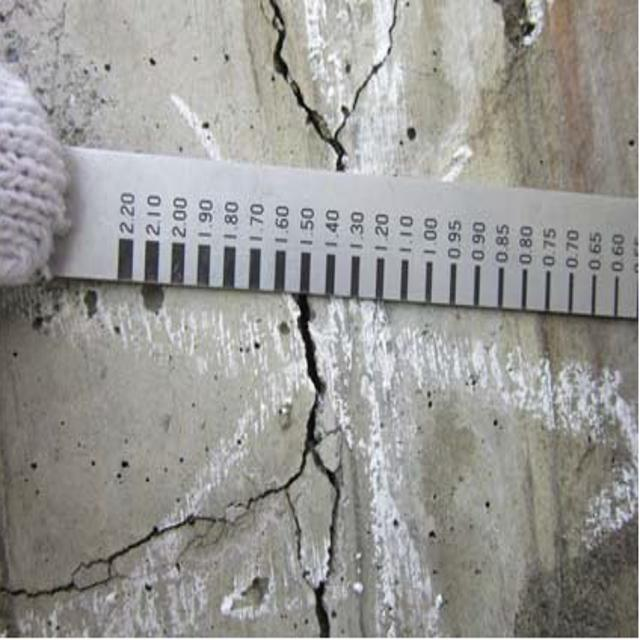crack: (23, 296, 364, 633), (251, 2, 416, 195)
